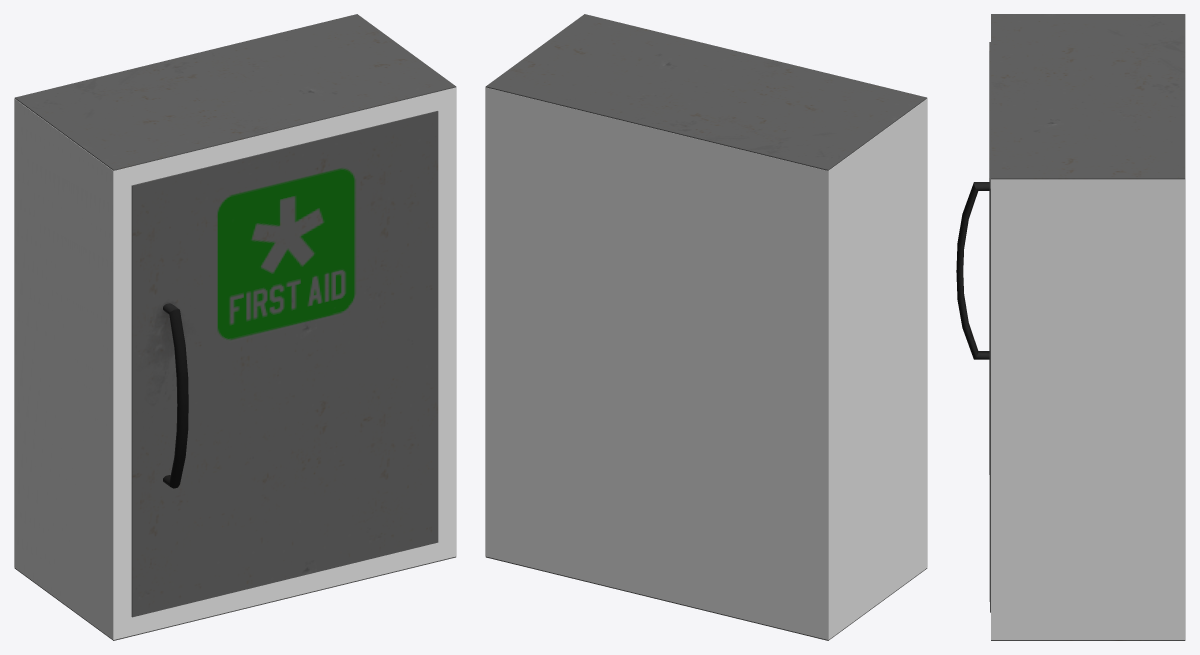
The model's file is RegularMedkitStructure.fbx.
The picture shows the model from 3 angles, left to right: view 1: azimuth 30°, elevation 25°; view 2: azimuth 150°, elevation 25°; view 3: azimuth 270°, elevation 25°; orthographic projection.
Visible parts, largest first — view 1: Cube.001, Shadowcaster, firstaidlocker (1); view 2: Shadowcaster, firstaidlocker (1); view 3: Shadowcaster, firstaidlocker (1), Cube.001.
Part boxes in pixels (left/top/right/bottom): Cube.001: left=131, top=111, right=438, bottom=617; Shadowcaster: left=14, top=87, right=456, bottom=639; firstaidlocker (1): left=14, top=14, right=456, bottom=640; Shadowcaster: left=485, top=87, right=927, bottom=639; firstaidlocker (1): left=485, top=14, right=927, bottom=640; Shadowcaster: left=991, top=15, right=1185, bottom=639; firstaidlocker (1): left=991, top=14, right=1185, bottom=640; Cube.001: left=956, top=42, right=990, bottom=612.
Bounding box in the file's own units: 0.6121 × 0.8031 × 0.3602.
Materials: 2 (1 with a texture image).
